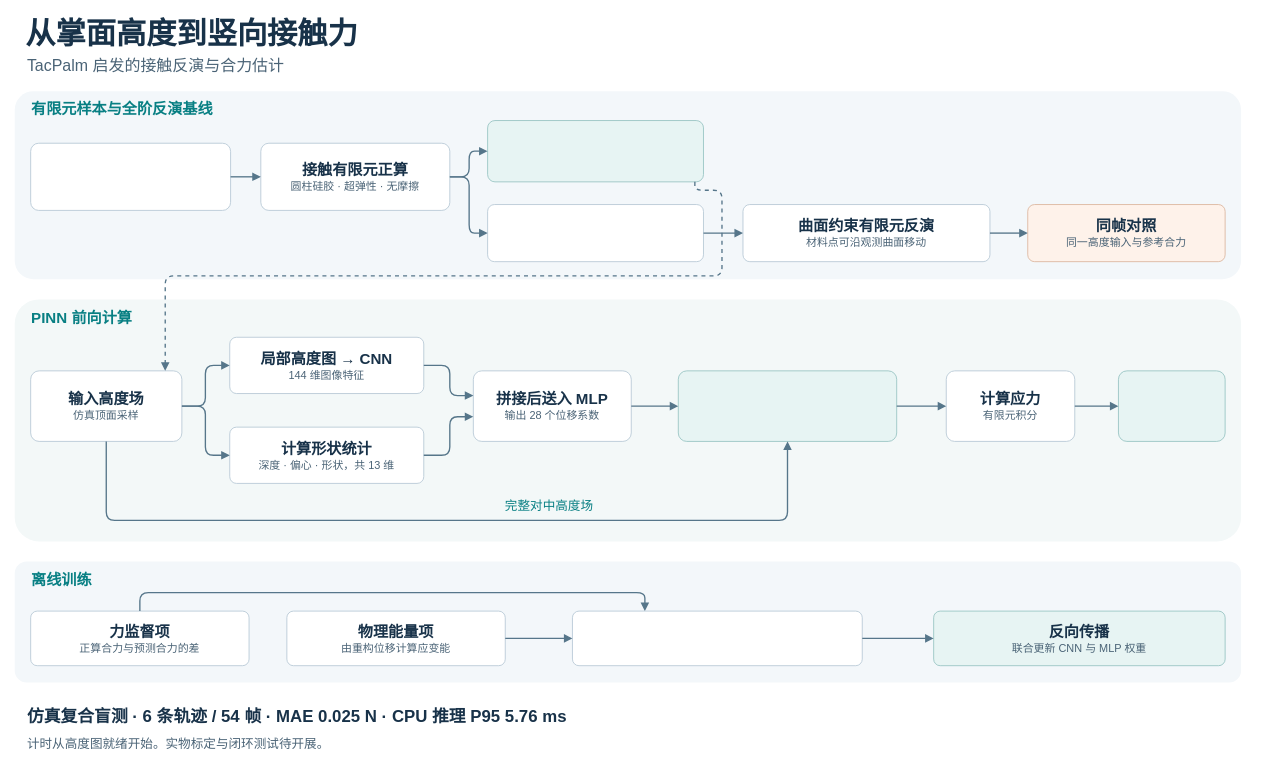
This 1268x767 diagram has some shape labels left out. The box of each missing label's shape, as (x1, y1, x2, y2) in pixels:
保存开发高度与反力 42 条训练 · 14 条验证: (487, 120, 704, 182)
权重冻结后生成盲测 9 条常规 · 6 条复合: (487, 204, 704, 262)
竖向合力 PINN 输出: (1118, 370, 1225, 441)
训练损失 力监督项 + 0.001 × 归一化能量项: (572, 610, 862, 666)
设定压入工况 形状 · 位置 · 姿态 · 行程: (30, 142, 231, 210)
重构三维位移 结合完整对中高度场: (677, 370, 897, 441)
